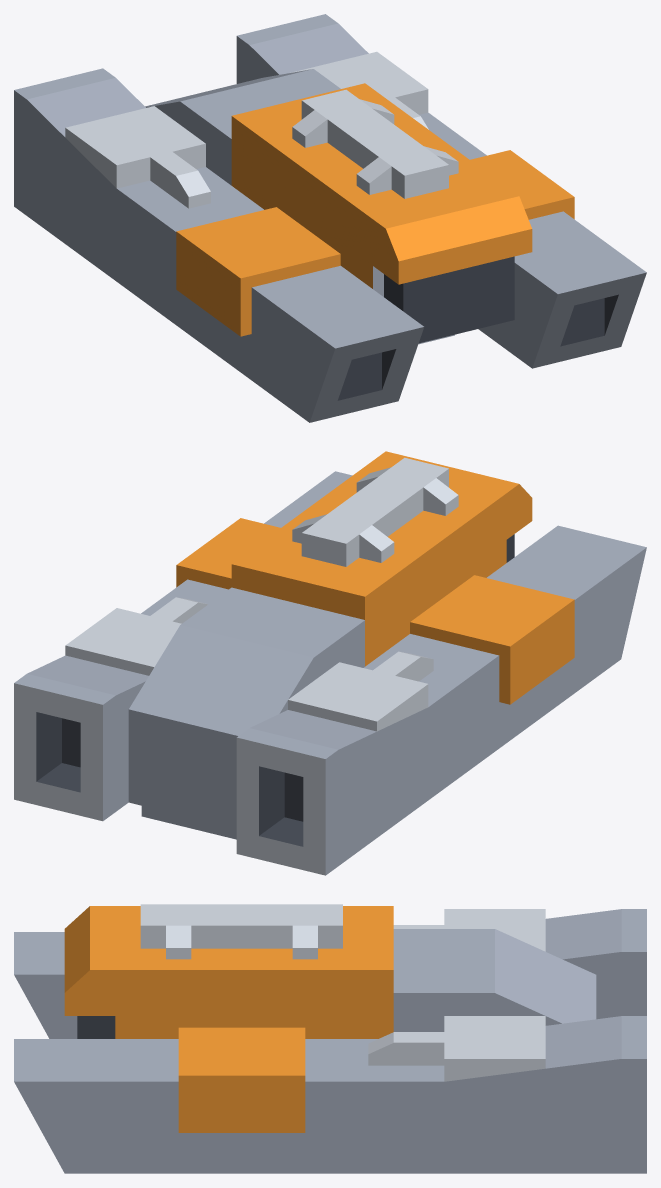
The model's file is craft_cargoB.fbx.
3 views of the same model, one above another, from view 1: azimuth 30°, elevation 25°; view 2: azimuth 150°, elevation 25°; view 3: azimuth 270°, elevation 25° (orthographic).
Visible parts, largest first — view 1: craft_cargoB; view 2: craft_cargoB; view 3: craft_cargoB.
Part boxes in pixels (x1,y1,x2,y2): craft_cargoB: (14, 14, 646, 422); craft_cargoB: (14, 451, 646, 875); craft_cargoB: (14, 904, 646, 1173).
Size of the model in its own units: 15 by 9 by 25.
